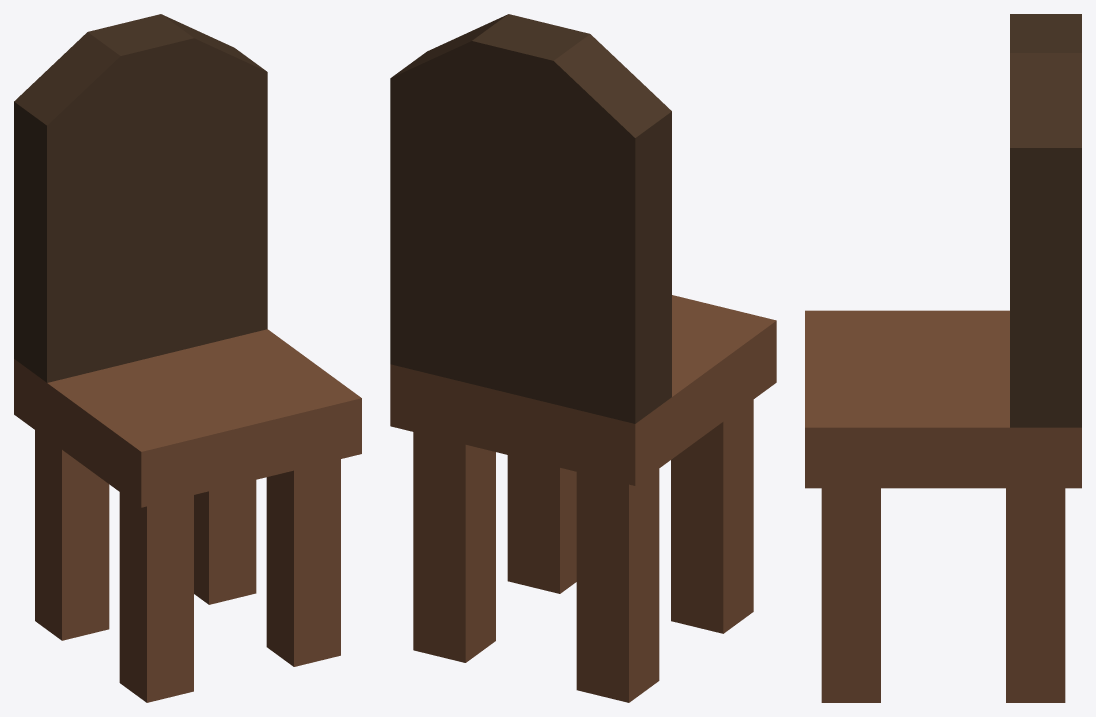
The model's file is Chair.fbx.
3 renders of one model, left to right at view 1: azimuth 30°, elevation 25°; view 2: azimuth 150°, elevation 25°; view 3: azimuth 270°, elevation 25°, orthographic. The views are drawn at different scales.
Visible parts, largest first — view 1: Chair; view 2: Chair; view 3: Chair.
Boxes of the visible parts, bbox=[...] form: Chair: bbox=[14, 14, 361, 702]; Chair: bbox=[390, 14, 776, 702]; Chair: bbox=[805, 14, 1081, 702].
Size of the model in its own units: 67 by 165 by 67.
